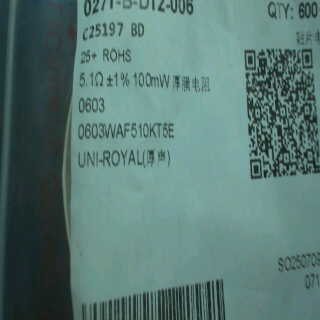5.1R: (75, 67, 105, 93)
